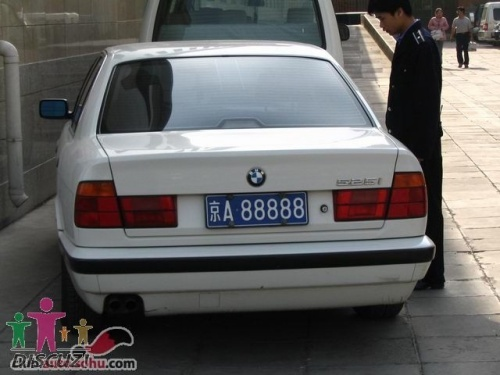plate_number: (202, 190, 311, 227)
